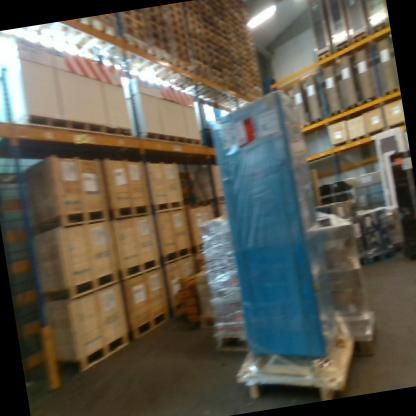pallet: (231, 325, 370, 408), (0, 89, 139, 170), (48, 325, 140, 392), (125, 108, 208, 169), (29, 193, 114, 247), (33, 265, 121, 312), (114, 247, 163, 282), (124, 305, 169, 341), (207, 324, 247, 359), (106, 190, 153, 219), (151, 189, 192, 222), (156, 242, 195, 270), (362, 248, 399, 276), (351, 25, 376, 56), (368, 21, 391, 49), (315, 46, 338, 67), (333, 40, 352, 62), (308, 114, 330, 133), (325, 104, 347, 123), (348, 128, 369, 147), (340, 96, 360, 114), (358, 92, 379, 109), (378, 85, 398, 99)
